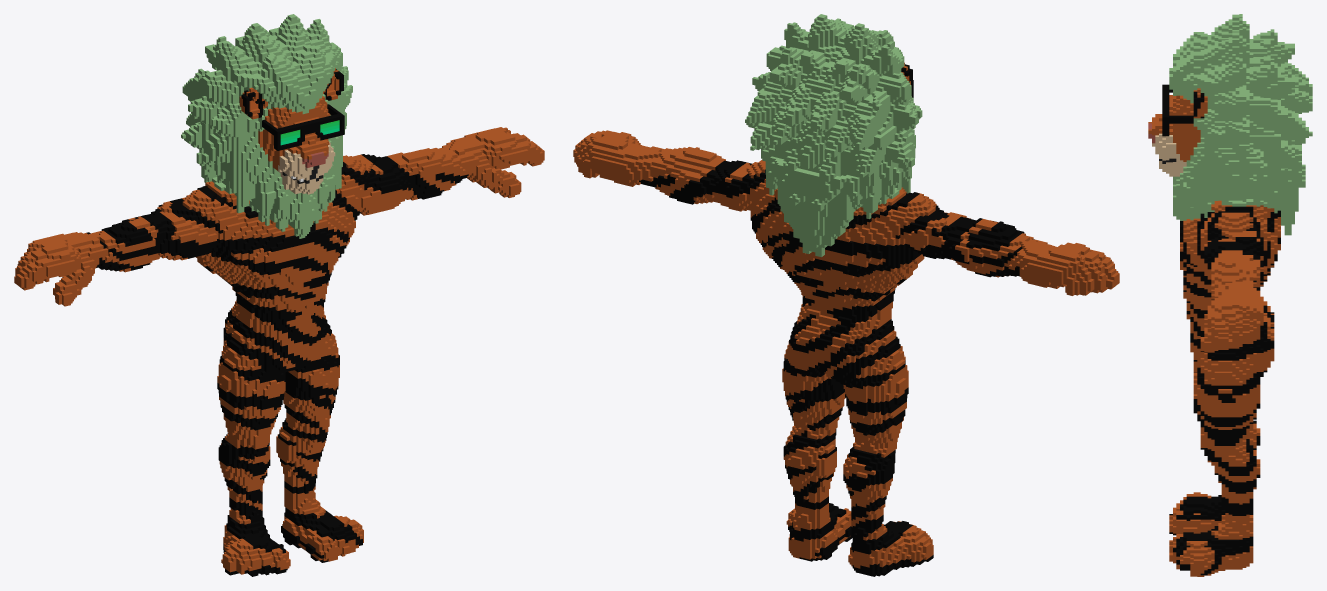
File: 149-F1GpTff8.glb
The picture shows the model from 3 angles, left to right: view 1: azimuth 30°, elevation 25°; view 2: azimuth 150°, elevation 25°; view 3: azimuth 270°, elevation 25°; orthographic projection. The views are drawn at different scales.
Parts seen in each view (by area): view 1: smirk; view 2: smirk; view 3: smirk.
Part boxes in pixels (x1,y1,x2,y2): smirk: (14,14,544,576); smirk: (573,14,1119,576); smirk: (1148,14,1312,576).
Size of the model in its own units: 17.2 by 16.5 by 4.7.
4 materials, 4 textured.
